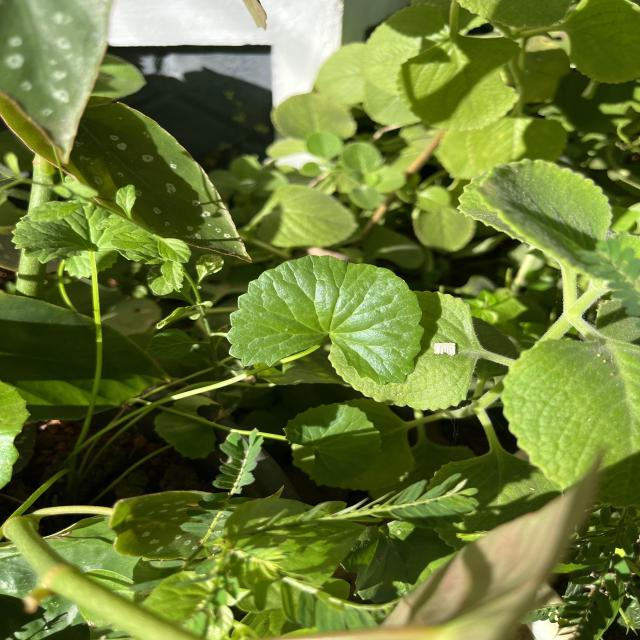Centella asiatica: (223, 252, 428, 388)
